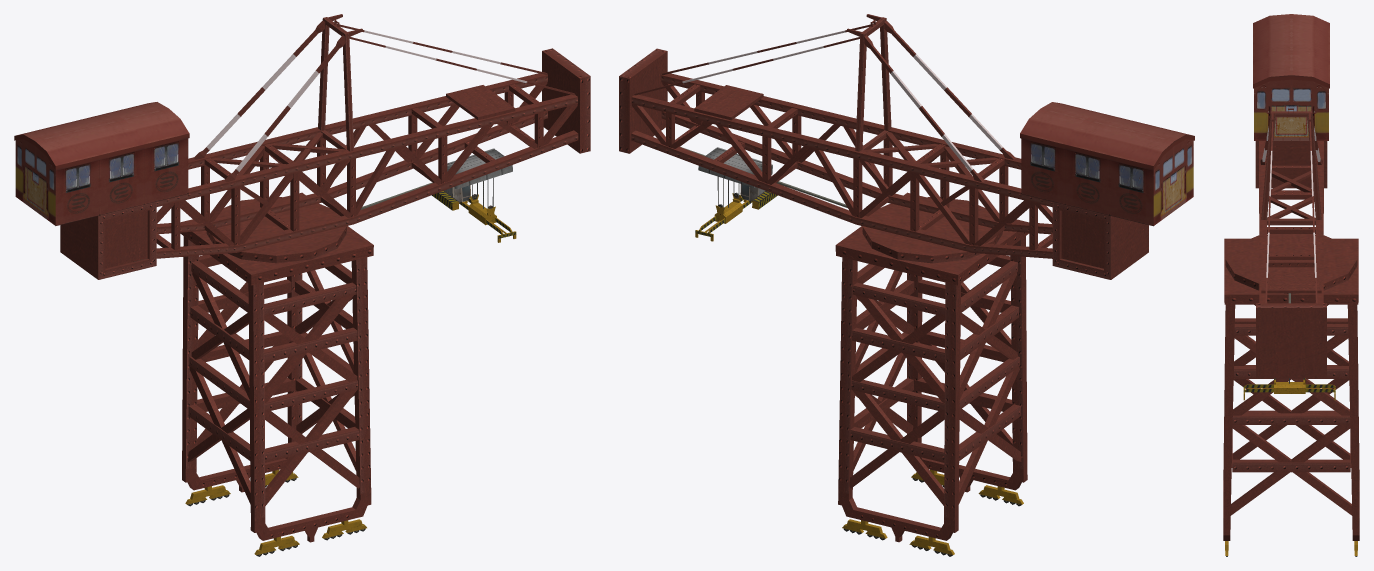
The model's file is Dhz_zsqzj_01.FBX.
3 renders of one model, left to right at view 1: azimuth 30°, elevation 25°; view 2: azimuth 150°, elevation 25°; view 3: azimuth 270°, elevation 25°, orthographic. The views are drawn at different scales.
Parts seen in each view (by area): view 1: Dhz_zsqzj_01; view 2: Dhz_zsqzj_01; view 3: Dhz_zsqzj_01.
Boxes of the visible parts, left/top/right/bottom form: Dhz_zsqzj_01: left=14, top=14, right=590, bottom=556; Dhz_zsqzj_01: left=619, top=14, right=1194, bottom=556; Dhz_zsqzj_01: left=1223, top=14, right=1359, bottom=556.
Size of the model in its own units: 46.69 by 40.15 by 10.97.
Materials: 1 (1 with a texture image).
